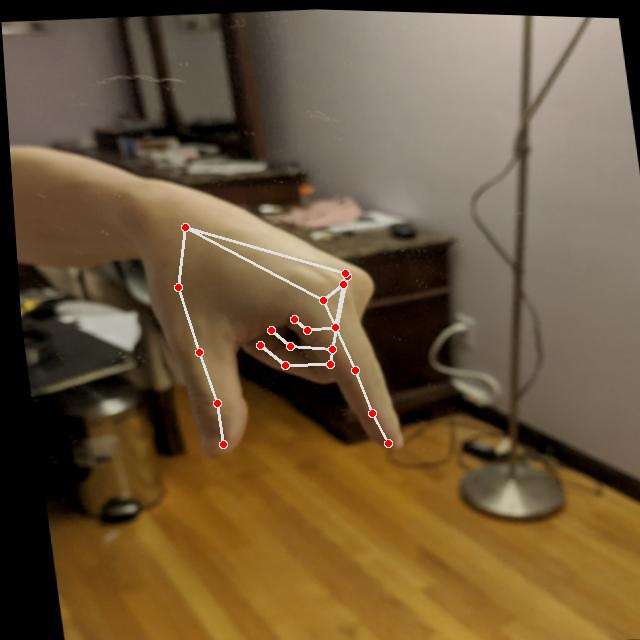Q: (120, 165, 408, 472)
